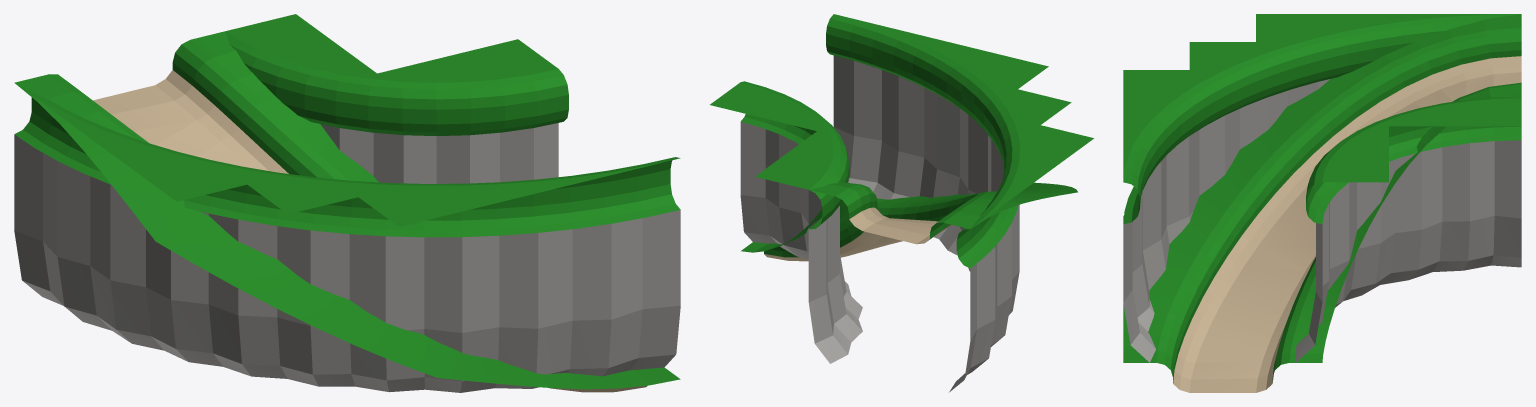
Rendered from Track_Cliff_Curve_Standard_Single_6x6.obj.
3 views of the same model, side by side, from view 1: azimuth 30°, elevation 25°; view 2: azimuth 150°, elevation 25°; view 3: azimuth 270°, elevation 25° (orthographic). The views are drawn at different scales.
Parts seen in each view (by area): view 1: Rock, Grass, Dirt; view 2: Rock, Grass, Dirt; view 3: Grass, Rock, Dirt.
Part boxes in pixels (x1=…): Rock: x1=14, y1=123, x2=680, y2=392; Grass: x1=14, y1=14, x2=680, y2=389; Dirt: x1=93, y1=70, x2=647, y2=392; Rock: x1=740, y1=55, x2=1019, y2=392; Grass: x1=710, y1=14, x2=1093, y2=268; Dirt: x1=764, y1=207, x2=952, y2=261; Grass: x1=1123, y1=14, x2=1521, y2=382; Rock: x1=1123, y1=79, x2=1521, y2=362; Dirt: x1=1173, y1=56, x2=1521, y2=392.
Size of the model in its own units: 6 by 3.5 by 6.
